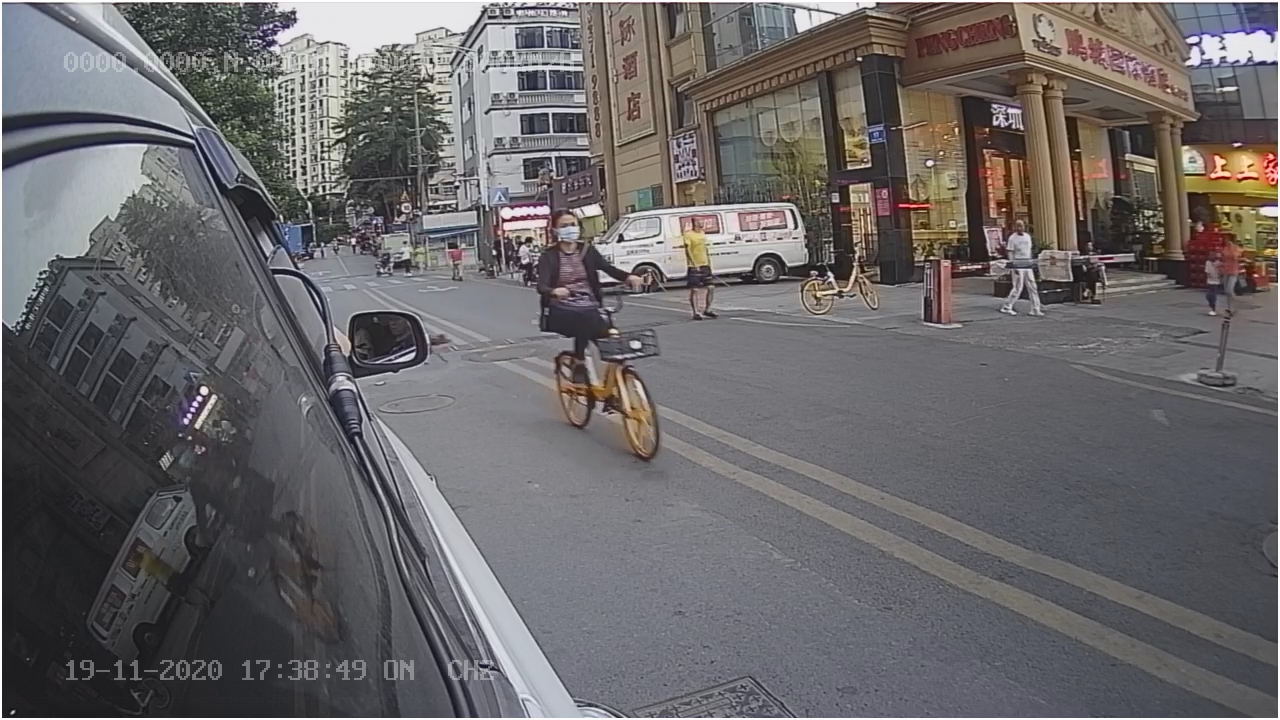person: (529, 213, 625, 340)
